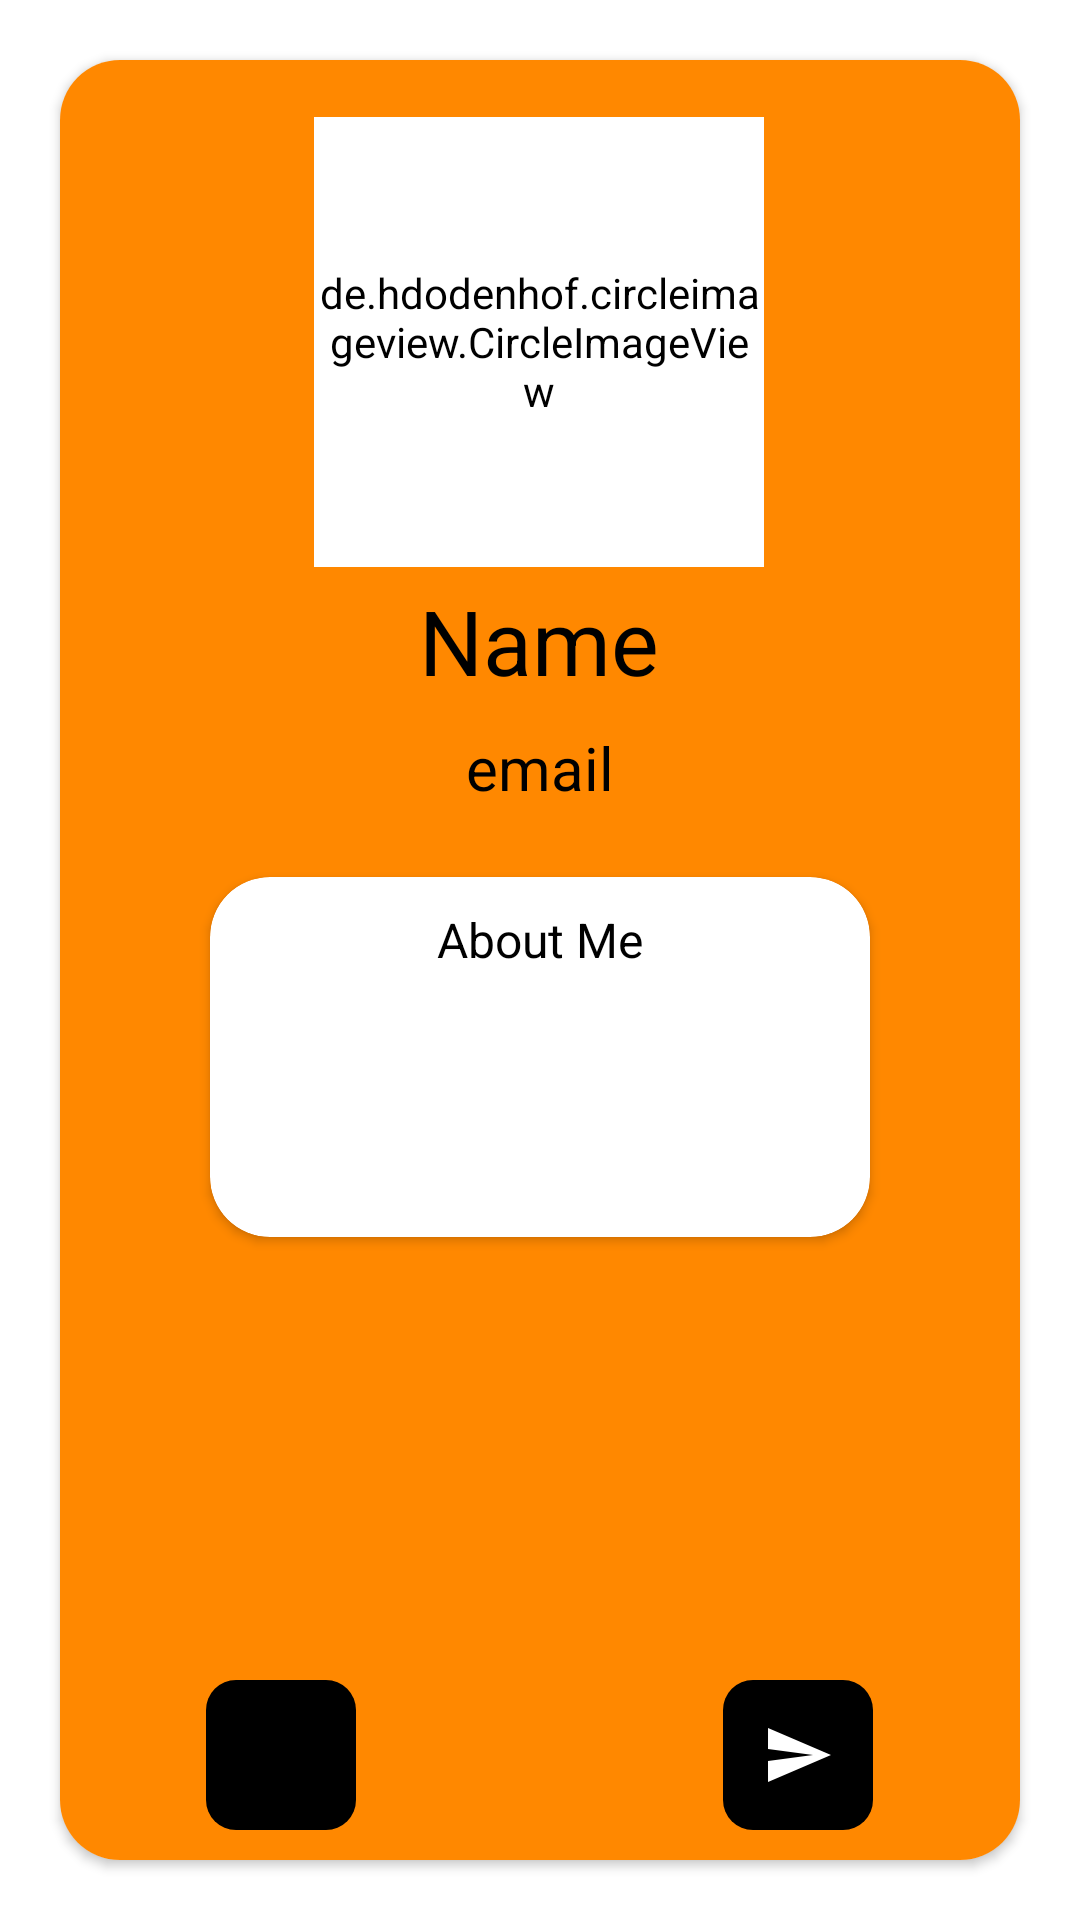

Icon bounding boxes for this 1080 × 1920 phone screenshot, format (x1, y1, x2, y2):
send message: (723, 1680, 873, 1830)
